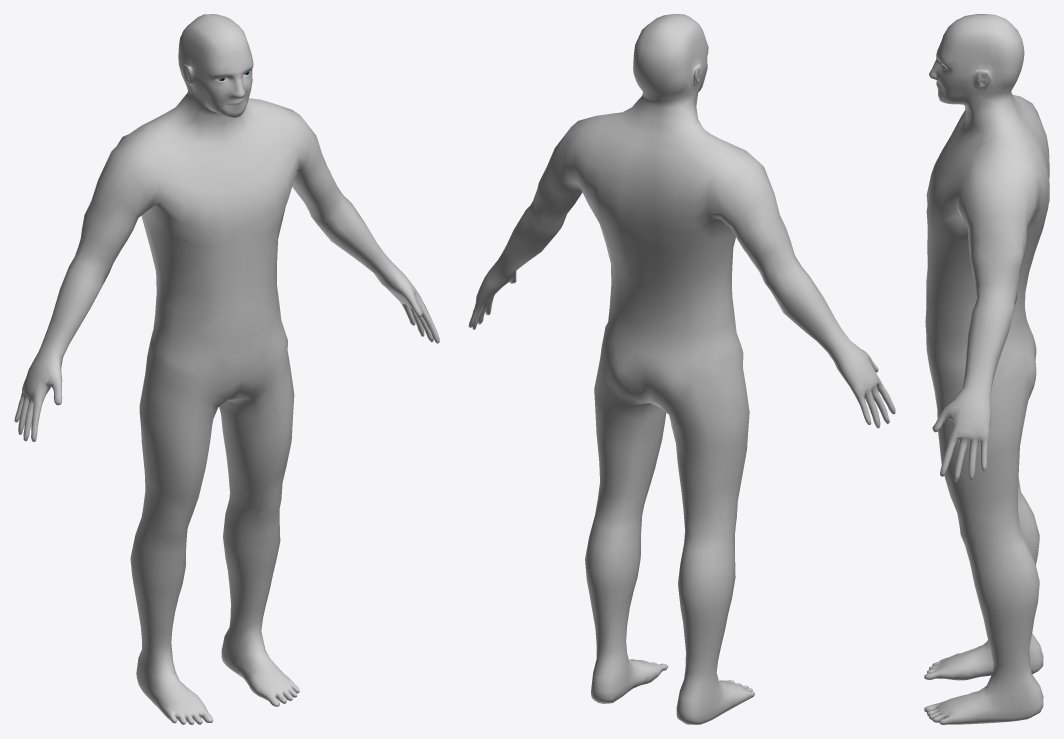
The model's file is new_one_sculpt.fbx.
The picture shows the model from 3 angles, left to right: view 1: azimuth 30°, elevation 25°; view 2: azimuth 150°, elevation 25°; view 3: azimuth 270°, elevation 25°; orthographic projection.
Parts seen in each view (by area): view 1: low_poly; view 2: low_poly; view 3: low_poly.
Part boxes in pixels (bbox=[...]): low_poly: bbox=[14, 14, 439, 724]; low_poly: bbox=[468, 14, 895, 724]; low_poly: bbox=[924, 14, 1049, 724].
Size of the model in its own units: 124 by 196 by 32.78.
